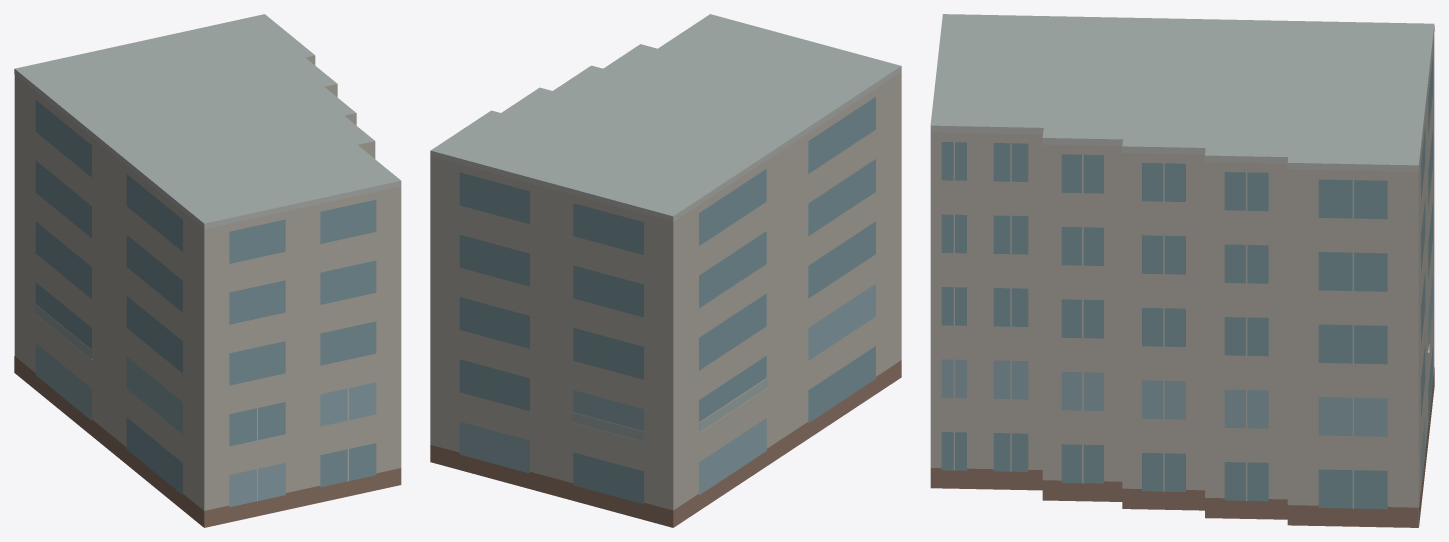
The model's file is survey-upis-32611210.glb.
3 views of the same model, side by side, from view 1: azimuth 30°, elevation 25°; view 2: azimuth 150°, elevation 25°; view 3: azimuth 270°, elevation 25° (orthographic). The views are drawn at different scales.
Parts seen in each view (by area): view 1: survey-upis-32611210.tmp; view 2: survey-upis-32611210.tmp; view 3: survey-upis-32611210.tmp.
Part boxes in pixels (<box>): survey-upis-32611210.tmp: <box>14,14,401,527</box>; survey-upis-32611210.tmp: <box>430,14,901,527</box>; survey-upis-32611210.tmp: <box>930,14,1434,527</box>.
Size of the model in its own units: 12.05 by 13.45 by 16.96.
